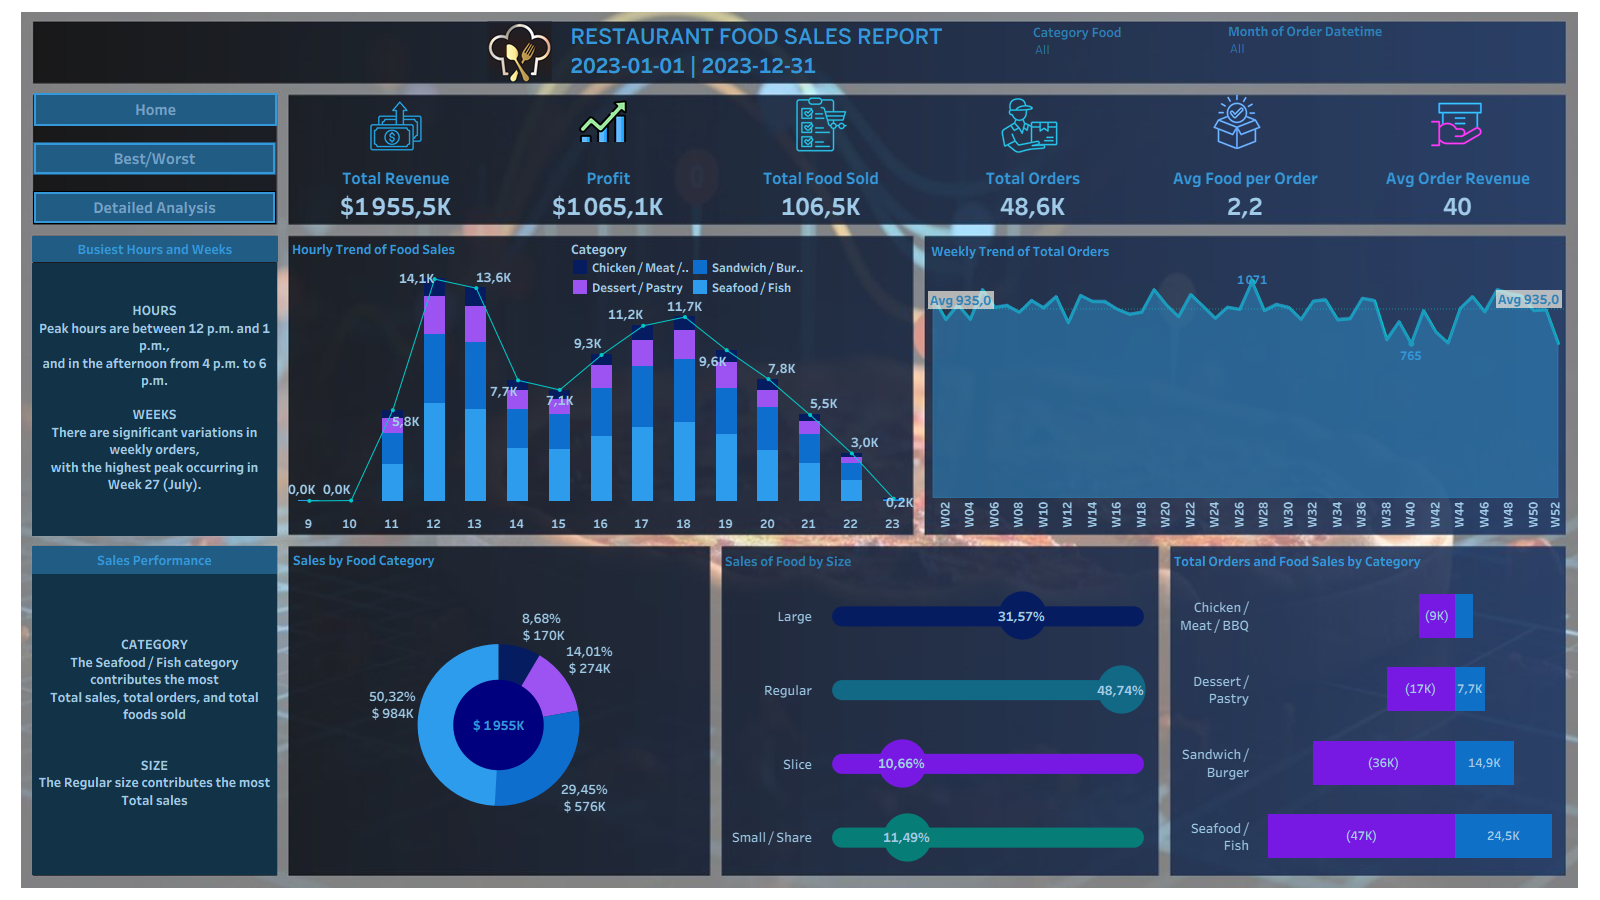

This screenshot's page, from the dashboard's own definition file:
{"tool":"tableau","page":{"name":"Home","canvas":[1600,900],"ordinal":2},"visuals":[{"type":"image","param":"C:/Users/whens/Downloads/de zoomcamp 2026/Proyecto_dashboard_dss/REPORT PIZZA/Ta","box":[8,8,1584,884]},{"type":"image","param":"C:/Users/whens/Downloads/de zoomcamp 2026/restaurant-sales-data-engineering/imag","box":[487,21,82,61]},{"type":"text","box":[568,21,397,62]},{"type":"filter","title":"Hourly Trend of Food Sales","param":"[federated.198zwiw0vudfok1fmbshn184gnaf].[mn:order_datetime:ok]","box":[1228,21,160,61]},{"type":"filter","title":"Hourly Trend of Food Sales","param":"[federated.198zwiw0vudfok1fmbshn184gnaf].[none:category:nk]","box":[1033,22,160,59]},{"type":"image","param":"C:/Users/whens/Downloads/de zoomcamp 2026/restaurant-sales-data-engineering/imag","box":[570,92,65,59]},{"type":"dashboard-object","box":[34,93,243,33]},{"type":"image","param":"C:/Users/whens/Downloads/de zoomcamp 2026/restaurant-sales-data-engineering/imag","box":[1205,94,63,55]},{"type":"image","param":"C:/Users/whens/Downloads/de zoomcamp 2026/restaurant-sales-data-engineering/imag","box":[1424,95,65,58]},{"type":"image","param":"C:/Users/whens/Downloads/de zoomcamp 2026/restaurant-sales-data-engineering/imag","box":[356,96,79,59]},{"type":"image","param":"C:/Users/whens/Downloads/de zoomcamp 2026/restaurant-sales-data-engineering/imag","box":[790,96,62,56]},{"type":"image","param":"C:/Users/whens/Downloads/de zoomcamp 2026/restaurant-sales-data-engineering/imag","box":[999,96,61,58]},{"type":"dashboard-object","box":[33,142,243,33]},{"type":"worksheet","title":"KPI Banner","mark":"Automatic","box":[290,149,1274,73]},{"type":"dashboard-object","box":[33,191,243,33]},{"type":"worksheet","title":"Hourly Trend of Food Sales","mark":"Bar","rows":["Calculation_0193002459127817","Calculation_0193002459127817"],"cols":["order_datetime"],"box":[288,234,626,299]},{"type":"text","box":[32,236,246,26]},{"type":"worksheet","title":"Weekly Trend of Total Orders","mark":"Automatic","rows":["Calculation_0193002458226695","Calculation_0193002458226695"],"cols":["order_datetime"],"box":[927,236,637,293]},{"type":"legend","title":"Hourly Trend of Food Sales","param":"[federated.198zwiw0vudfok1fmbshn184gnaf].[none:category:nk]","box":[570,238,338,60]},{"type":"text","box":[32,263,245,273]},{"type":"worksheet","title":"Sales by Food Category","mark":"Pie","rows":["Calculation_1155625279254531","Calculation_1155625279254531"],"box":[289,545,419,327]},{"type":"text","box":[32,546,245,28]},{"type":"worksheet","title":"Sales of Food by Size","mark":"Line","rows":["item_size"],"cols":["Calculation_0193002452090882"],"box":[721,546,437,328]},{"type":"worksheet","title":"Total Orders and Food Sales by Category","mark":"Automatic","rows":["category"],"box":[1170,546,396,327]},{"type":"text","box":[32,573,245,302]}]}

Visuals, with their boxes in screenshot pixels (x1, y1, x2, y2), scaled from the page's 1600x900 canvas onto the 1600x900 screenshot:
image: BBox(8, 8, 1592, 892)
image: BBox(487, 21, 569, 82)
text: BBox(568, 21, 965, 83)
"Hourly Trend of Food Sales" filter: BBox(1228, 21, 1388, 82)
"Hourly Trend of Food Sales" filter: BBox(1033, 22, 1193, 81)
image: BBox(570, 92, 635, 151)
dashboard-object: BBox(34, 93, 277, 126)
image: BBox(1205, 94, 1268, 149)
image: BBox(1424, 95, 1489, 153)
image: BBox(356, 96, 435, 155)
image: BBox(790, 96, 852, 152)
image: BBox(999, 96, 1060, 154)
dashboard-object: BBox(33, 142, 276, 175)
"KPI Banner" worksheet: BBox(290, 149, 1564, 222)
dashboard-object: BBox(33, 191, 276, 224)
"Hourly Trend of Food Sales" worksheet (Bar marks): BBox(288, 234, 914, 533)
text: BBox(32, 236, 278, 262)
"Weekly Trend of Total Orders" worksheet: BBox(927, 236, 1564, 529)
"Hourly Trend of Food Sales" legend: BBox(570, 238, 908, 298)
text: BBox(32, 263, 277, 536)
"Sales by Food Category" worksheet (Pie marks): BBox(289, 545, 708, 872)
text: BBox(32, 546, 277, 574)
"Sales of Food by Size" worksheet (Line marks): BBox(721, 546, 1158, 874)
"Total Orders and Food Sales by Category" worksheet: BBox(1170, 546, 1566, 873)
text: BBox(32, 573, 277, 875)
